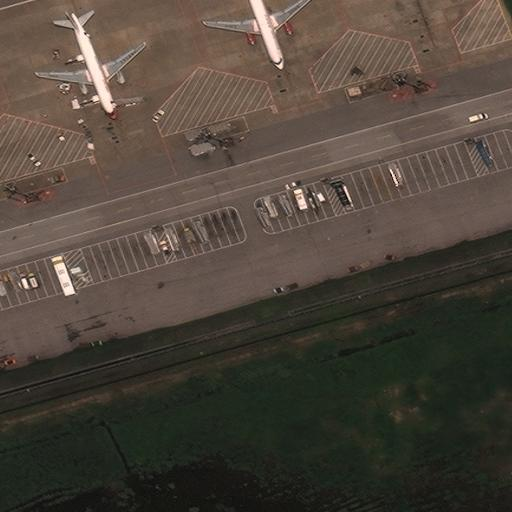Medium Civil Transport: (35, 11, 146, 118), (204, 0, 312, 68)
